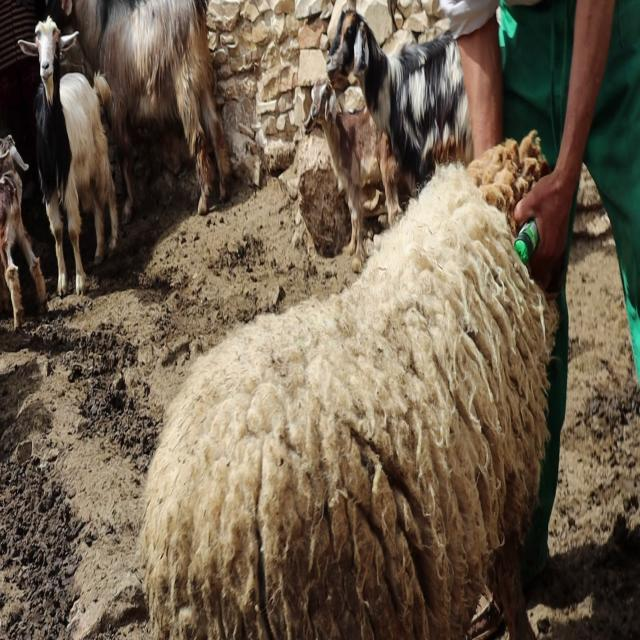Score_2: (136, 130, 558, 639)
